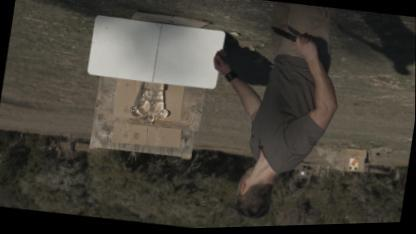knife: (266, 22, 322, 54)
